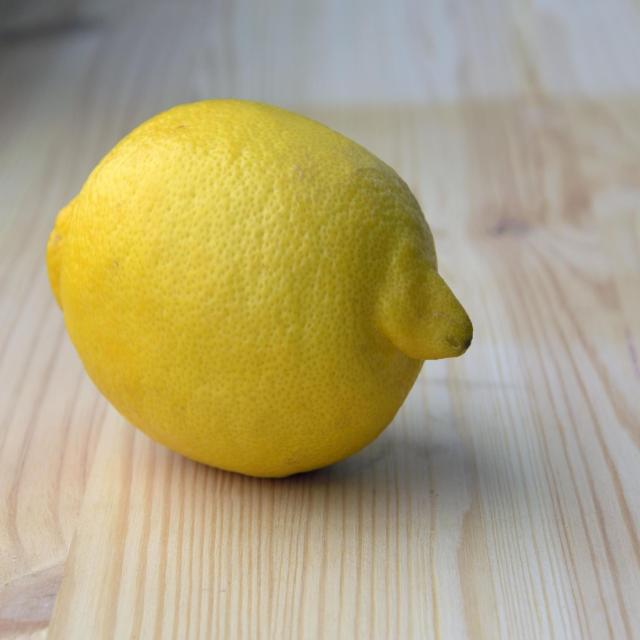lemon: (41, 91, 480, 485)
